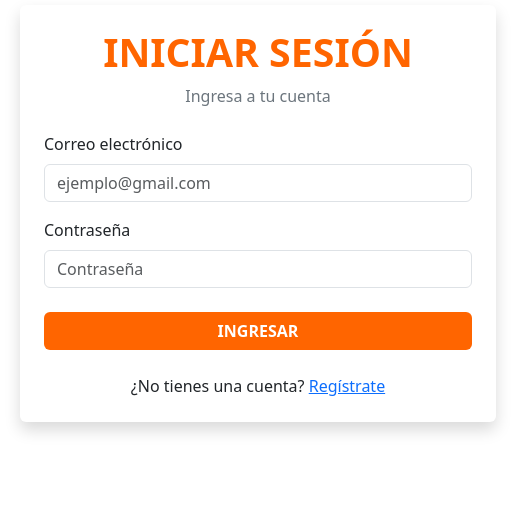
Acceso, registro y roles › 3. Rechaza una contraseña incorrecta
The image size is (517, 525).
In the field labelled "Correo electrónico": (258, 183) [44,164,472,202], type "juan@gmail.com"
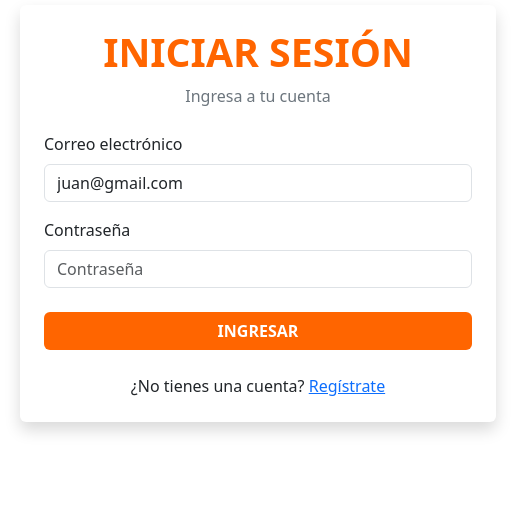
In the password field labelled "Contraseña": (258, 269) [44,250,472,288], type "incorrecta"
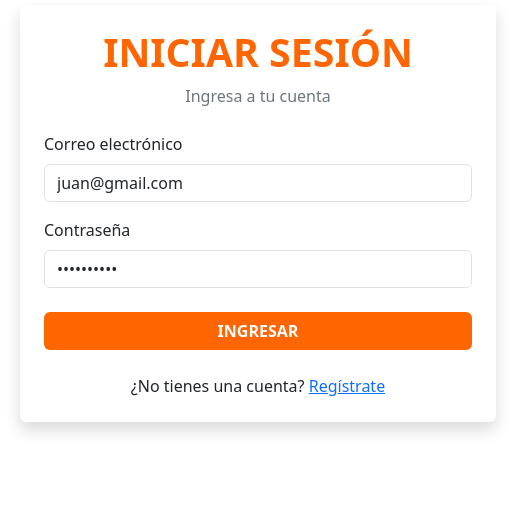
Click the button "INGRESAR": (258, 331) [44,312,472,350]
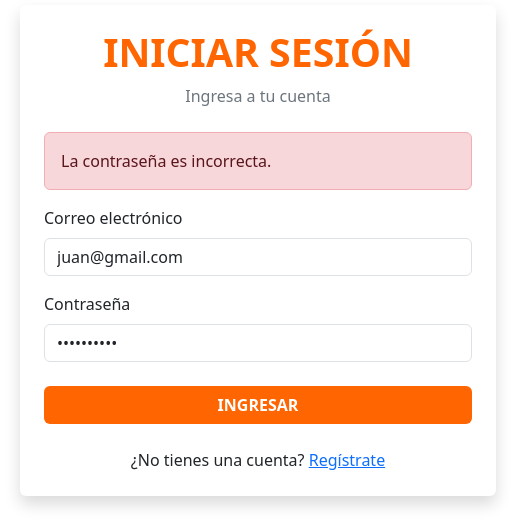
Check: the text "La contraseña es incorrecta." is shown, box [44,132,472,190]
